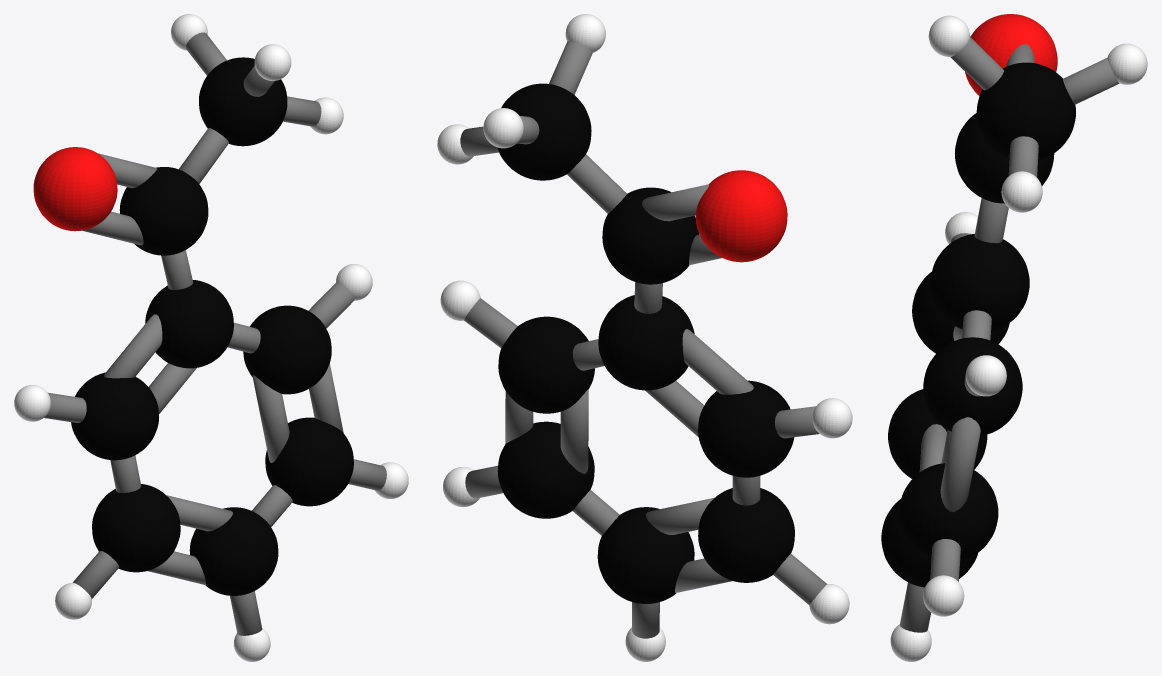
The model's file is ACETOFENONA.obj.
3 renders of one model, left to right at view 1: azimuth 30°, elevation 25°; view 2: azimuth 150°, elevation 25°; view 3: azimuth 270°, elevation 25°, orthographic. The views are drawn at different scales.
Parts seen in each view (by area): view 1: Carbon_ball_Sphere.001, Hydrogen_ball_Sphere, Oxygen_ball_Sphere.002, Stick_Cylinder.015_Cylinder.015, Stick_Cylinder.002_Cylinder.002, Stick_Cylinder.012_Cylinder.012, Stick_Cylinder.011_Cylinder.011, Stick_Cylinder.020_Cylinder.020, Stick_Cylinder.007_Cylinder.007, Stick_Cylinder.018_Cylinder.018, Stick_Cylinder.017_Cylinder.017, Stick_Cylinder.016_Cylinder.016 (+11 smaller); view 2: Carbon_ball_Sphere.001, Hydrogen_ball_Sphere, Oxygen_ball_Sphere.002, Stick_Cylinder.002_Cylinder.002, Stick_Cylinder.015_Cylinder.015, Stick_Cylinder.012_Cylinder.012, Stick_Cylinder.009_Cylinder.009, Stick_Cylinder.011_Cylinder.011, Stick_Cylinder.018_Cylinder.018, Stick_Cylinder.004_Cylinder.004, Stick_Cylinder.007_Cylinder.007, Stick_Cylinder.016_Cylinder.016 (+10 smaller); view 3: Carbon_ball_Sphere.001, Hydrogen_ball_Sphere, Oxygen_ball_Sphere.002, Stick_Cylinder.020_Cylinder.020, Stick_Cylinder.014_Cylinder.014, Stick_Cylinder.004_Cylinder.004, Stick_Cylinder.001_Cylinder.001, Stick_Cylinder.008_Cylinder.008, Stick_Cylinder_Cylinder, Stick_Cylinder.013_Cylinder.013, Stick_Cylinder.011_Cylinder.011, Stick_Cylinder.003_Cylinder.003 (+1 smaller).
Part boxes in pixels (x1,y1,x2,y2): Carbon_ball_Sphere.001: (71, 57, 353, 595); Hydrogen_ball_Sphere: (14, 14, 408, 661); Oxygen_ball_Sphere.002: (33, 147, 117, 231); Stick_Cylinder.015_Cylinder.015: (252, 375, 289, 462); Stick_Cylinder.002_Cylinder.002: (104, 314, 162, 378); Stick_Cylinder.012_Cylinder.012: (179, 128, 228, 183); Stick_Cylinder.011_Cylinder.011: (166, 495, 232, 531); Stick_Cylinder.020_Cylinder.020: (309, 363, 343, 432); Stick_Cylinder.007_Cylinder.007: (73, 550, 119, 599); Stick_Cylinder.018_Cylinder.018: (149, 363, 196, 413); Stick_Cylinder.017_Cylinder.017: (82, 211, 143, 245); Stick_Cylinder.016_Cylinder.016: (308, 282, 354, 328); Carbon_ball_Sphere.001: (497, 83, 794, 603); Hydrogen_ball_Sphere: (437, 14, 852, 661); Oxygen_ball_Sphere.002: (695, 170, 787, 262); Stick_Cylinder.002_Cylinder.002: (682, 329, 753, 394); Stick_Cylinder.015_Cylinder.015: (560, 389, 588, 473); Stick_Cylinder.012_Cylinder.012: (567, 154, 626, 213); Stick_Cylinder.009_Cylinder.009: (642, 184, 708, 221); Stick_Cylinder.011_Cylinder.011: (646, 497, 714, 534); Stick_Cylinder.018_Cylinder.018: (645, 381, 704, 436); Stick_Cylinder.004_Cylinder.004: (549, 41, 592, 94); Stick_Cylinder.007_Cylinder.007: (773, 554, 826, 605); Stick_Cylinder.016_Cylinder.016: (464, 298, 517, 347); Carbon_ball_Sphere.001: (881, 62, 1075, 587); Hydrogen_ball_Sphere: (890, 15, 1147, 661); Oxygen_ball_Sphere.002: (965, 14, 1057, 95); Stick_Cylinder.020_Cylinder.020: (940, 417, 980, 512); Stick_Cylinder.014_Cylinder.014: (1063, 58, 1119, 104); Stick_Cylinder.004_Cylinder.004: (950, 37, 1003, 90); Stick_Cylinder.001_Cylinder.001: (974, 198, 1008, 243); Stick_Cylinder.008_Cylinder.008: (899, 582, 931, 632); Stick_Cylinder_Cylinder: (930, 539, 960, 581); Stick_Cylinder.013_Cylinder.013: (1008, 136, 1038, 177); Stick_Cylinder.011_Cylinder.011: (919, 424, 946, 471); Stick_Cylinder.003_Cylinder.003: (962, 310, 991, 340).
Size of the model in its own units: 6.84 by 10.2 by 3.71.
